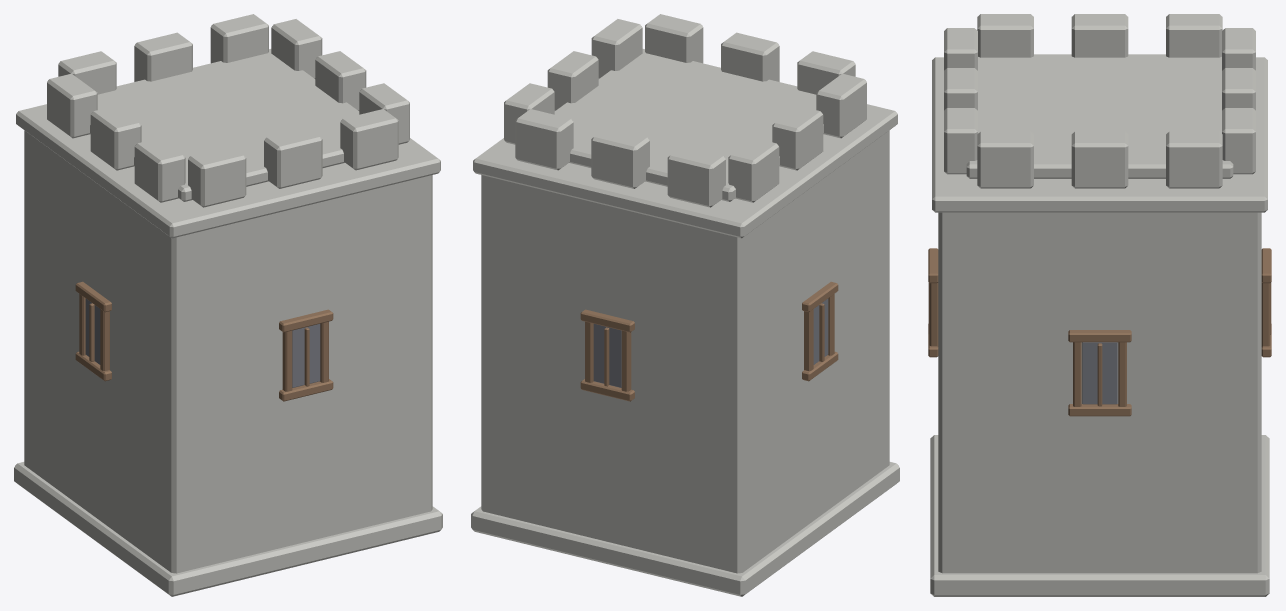
Rendered from town_wall_corner_tower.glb.
3 views of the same model, side by side, from view 1: azimuth 30°, elevation 25°; view 2: azimuth 150°, elevation 25°; view 3: azimuth 270°, elevation 25° (orthographic). The views are drawn at different scales.
Visible parts, largest first — view 1: world; view 2: world; view 3: world.
Boxes of the visible parts, bbox=[...] form: world: bbox=[14, 14, 442, 596]; world: bbox=[471, 14, 899, 596]; world: bbox=[928, 14, 1271, 596].
Size of the model in its own units: 1.39 by 2 by 1.39.
